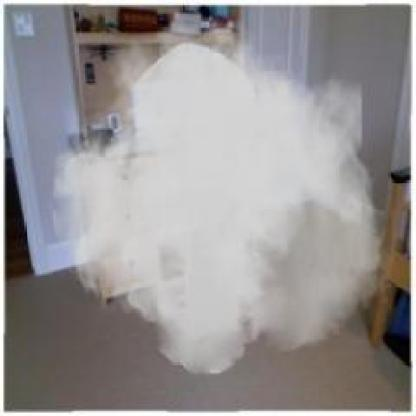Smoke: (46, 6, 393, 375)
